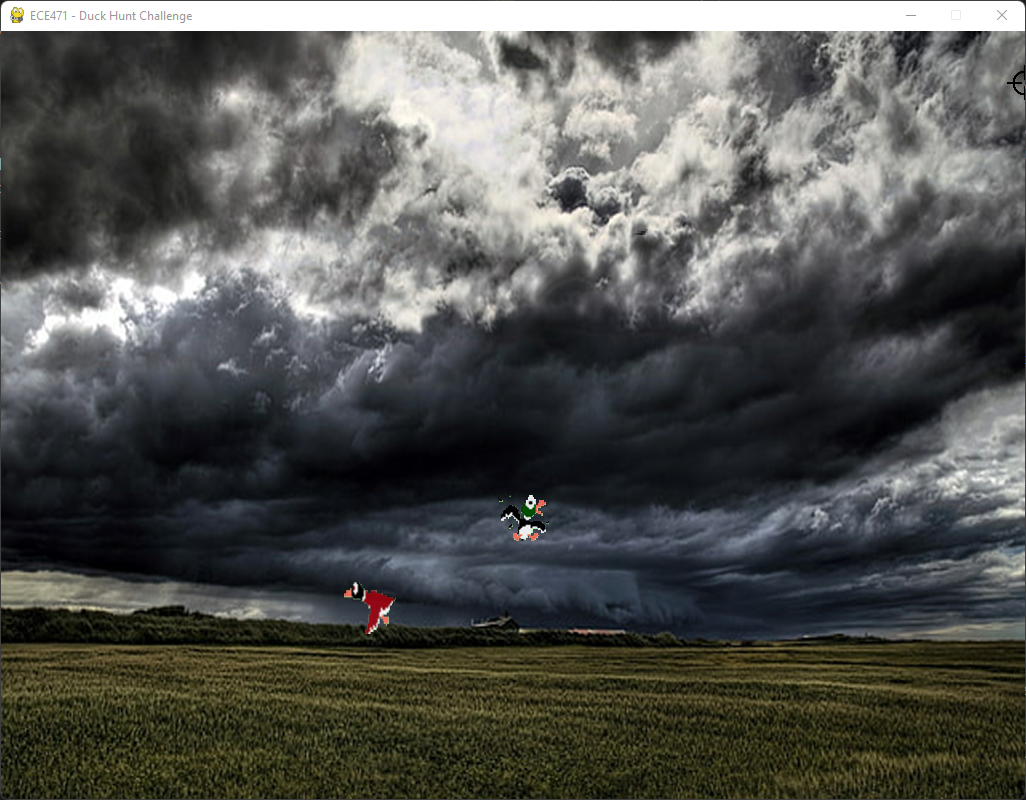dead: (486, 482, 560, 556)
red: (337, 576, 406, 644)
